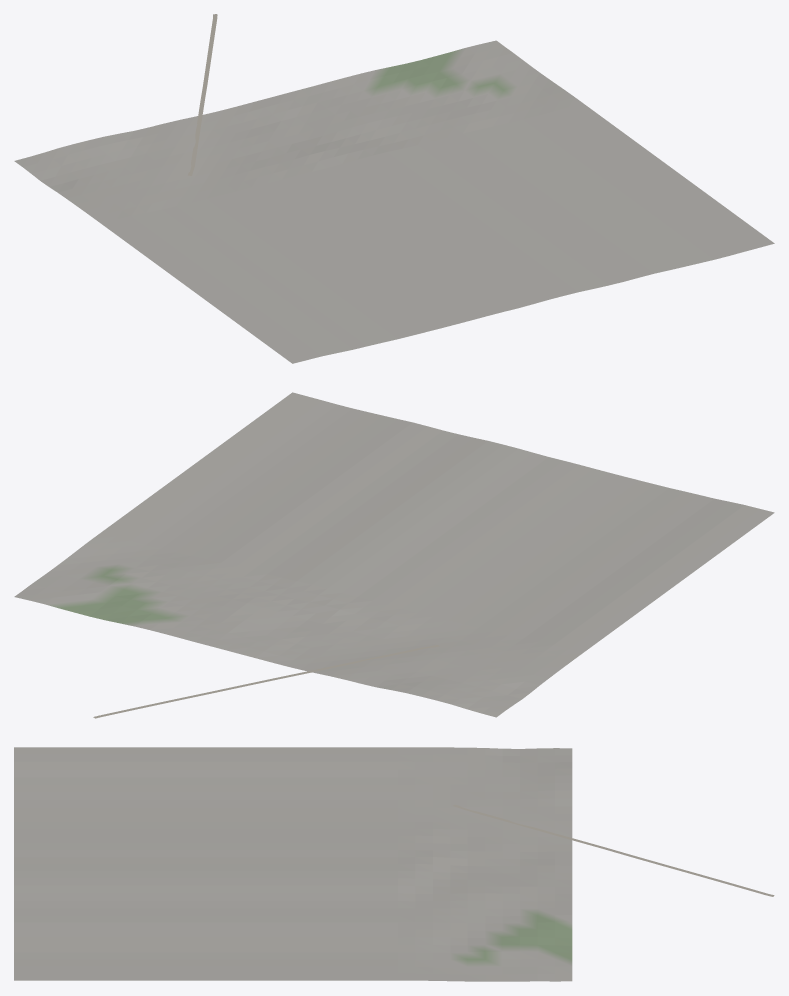
The model's file is tile_-6_7.glb.
3 views of the same model, one above another, from view 1: azimuth 30°, elevation 25°; view 2: azimuth 150°, elevation 25°; view 3: azimuth 270°, elevation 25° (orthographic).
Parts seen in each view (by area): view 1: terrain, paths; view 2: terrain, paths; view 3: terrain, paths.
Boxes of the visible parts, x1,y1,x2,y2 form: terrain: (14, 40, 774, 363); paths: (188, 14, 217, 175); terrain: (14, 392, 774, 717); paths: (93, 645, 439, 718); terrain: (14, 747, 572, 981); paths: (452, 804, 774, 896).
Bounding box in the file's own units: 256 × 2.19 × 349.
